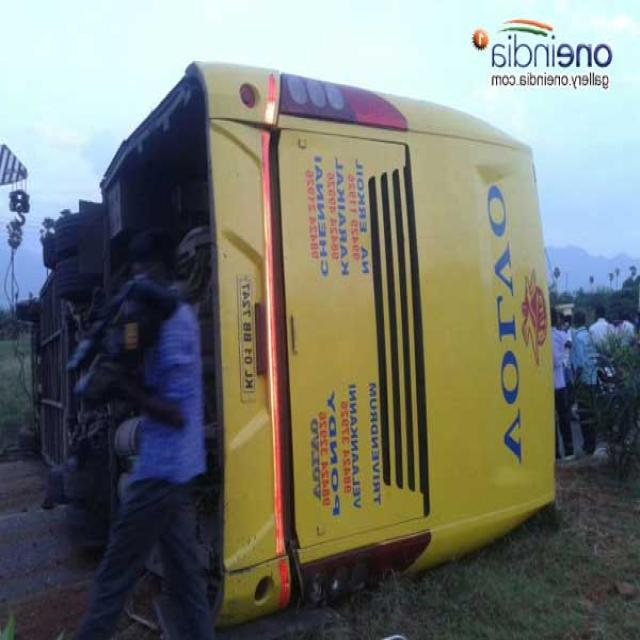accident: (16, 63, 552, 624)
